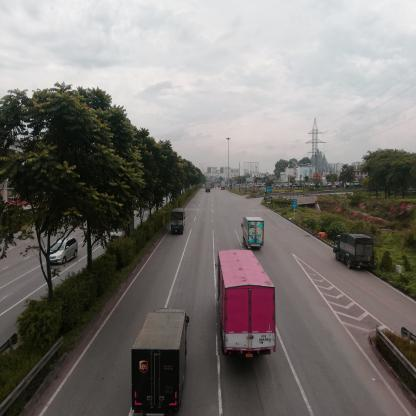car: (51, 239, 79, 263)
truck: (217, 251, 277, 356), (132, 309, 188, 414), (332, 235, 375, 271), (243, 218, 266, 250), (173, 209, 184, 236)
